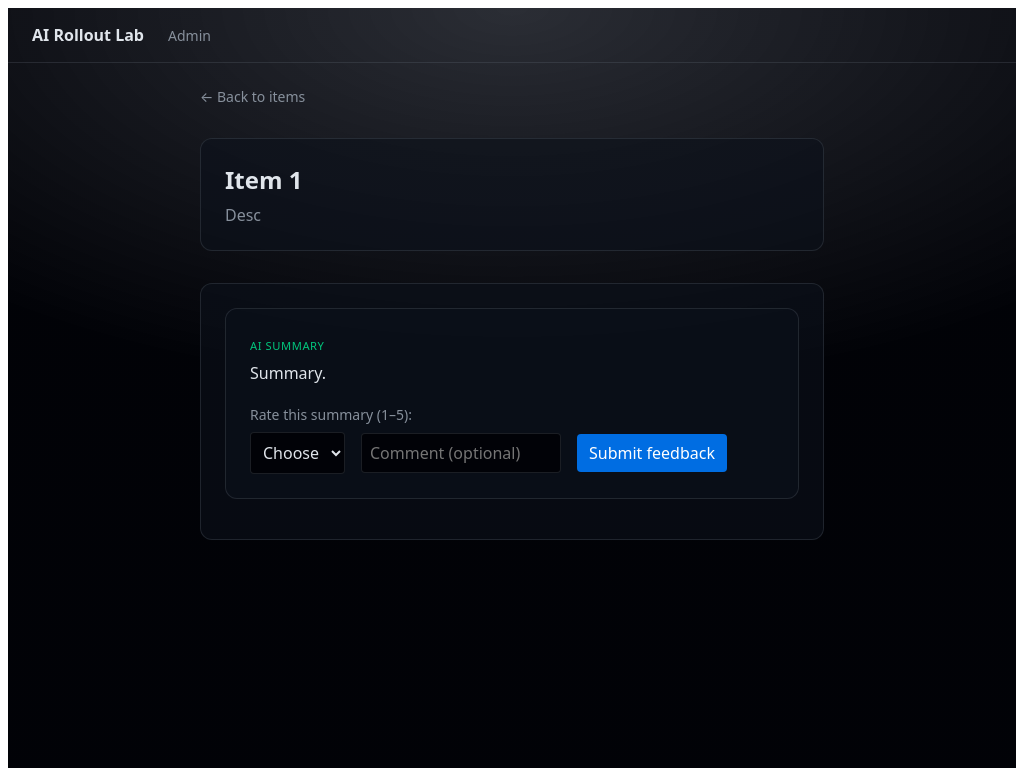
Test: Rollout behavior › shows feedback form when summary is present
Check: the form with test id "feedback-form" is shown, box x1=250 y1=405 x2=774 y2=474
Select "5" in the dropdown with test id "feedback-rating" at x=298, y=453, box x1=250 y1=432 x2=345 y2=474
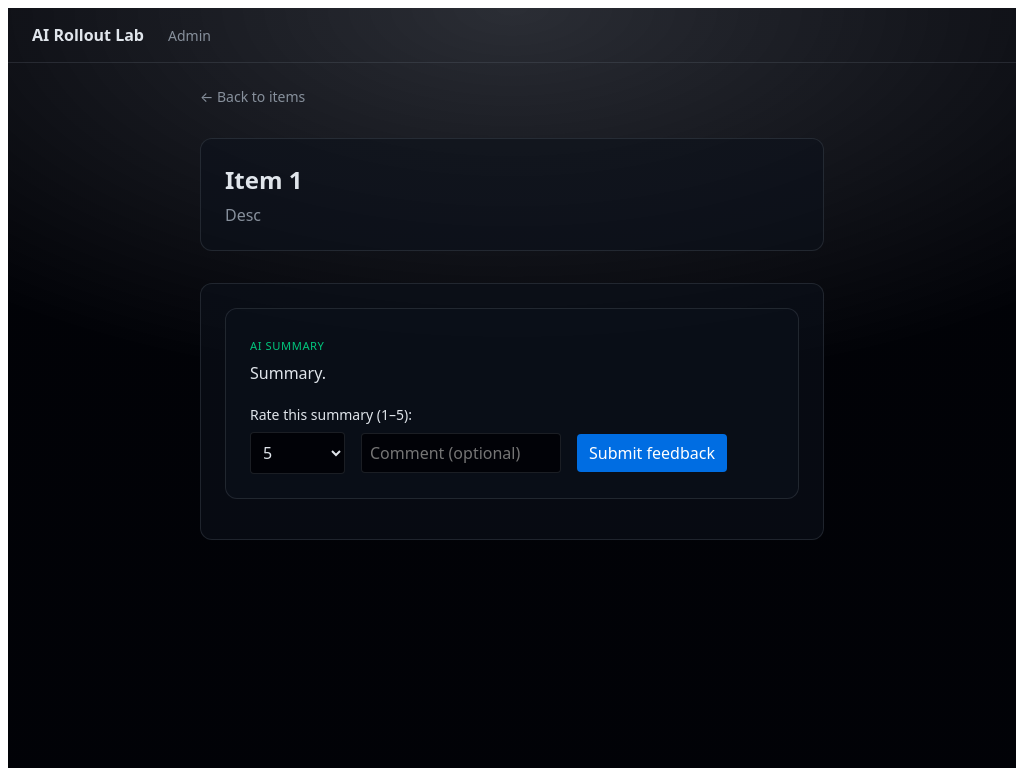
Click the button with test id "feedback-submit" at x=652, y=453, box x1=577 y1=434 x2=727 y2=472
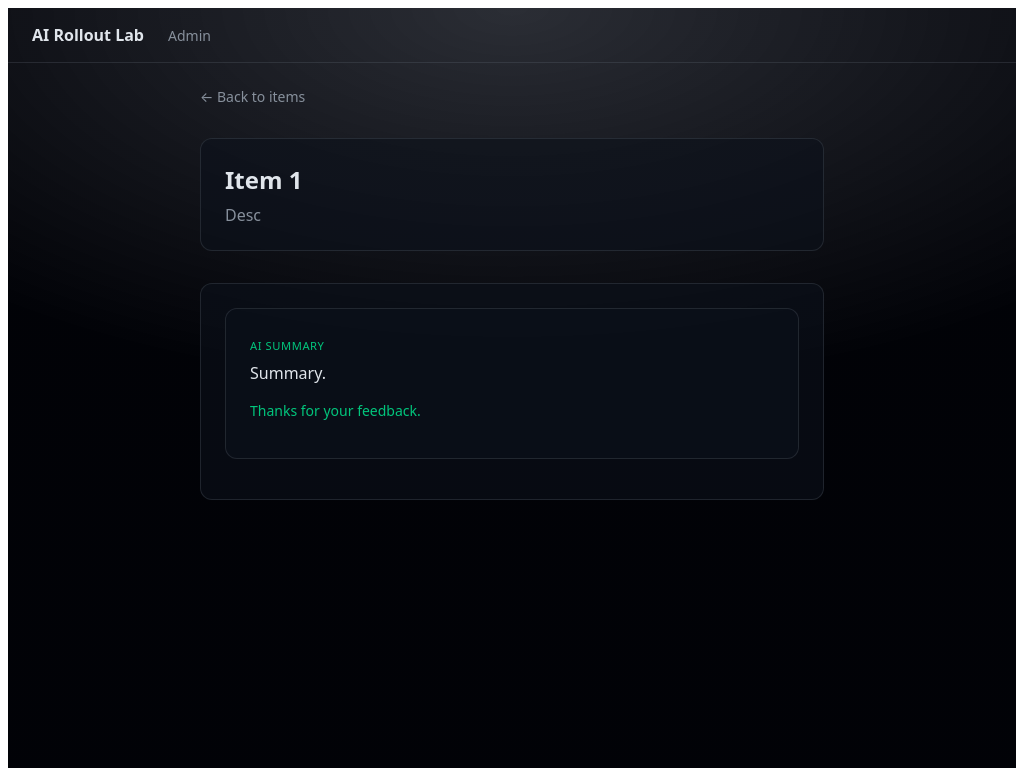
Check: the text "Thanks for your feedback." is shown, box x1=250 y1=401 x2=421 y2=420
